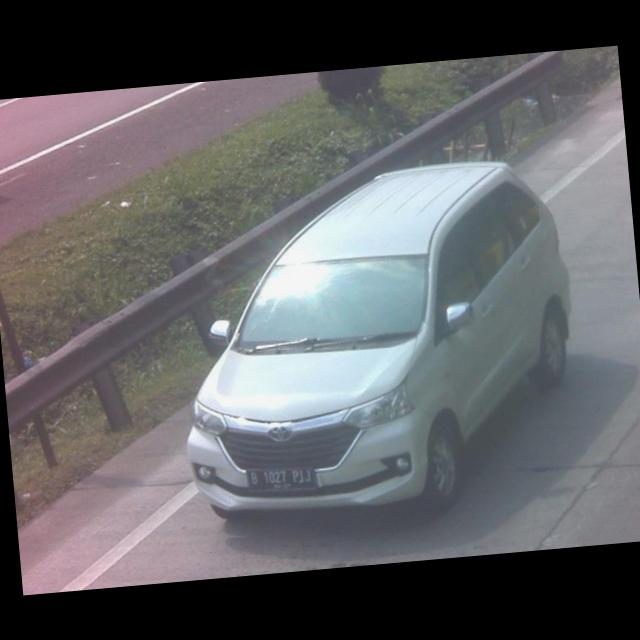plate: (243, 462, 317, 495)
